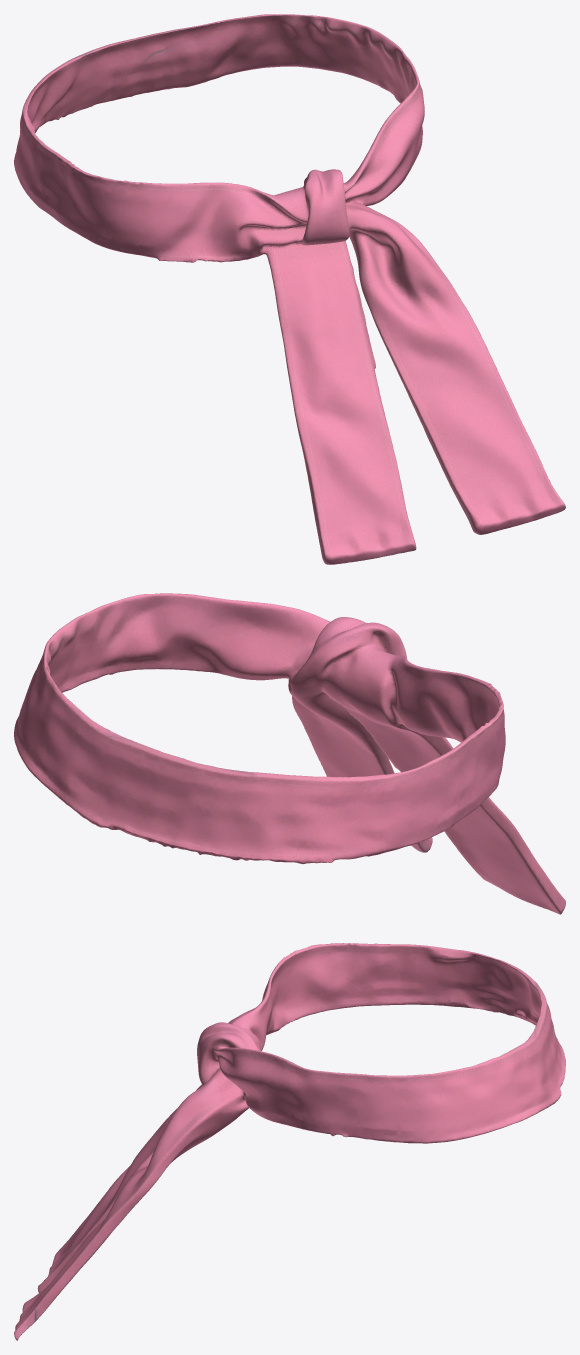
File: sabuk.glb
3 views of the same model, one above another, from view 1: azimuth 30°, elevation 25°; view 2: azimuth 150°, elevation 25°; view 3: azimuth 270°, elevation 25° (orthographic). The views are drawn at different scales.
Parts seen in each view (by area): view 1: mesh_node; view 2: mesh_node; view 3: mesh_node.
Boxes of the visible parts, x1=… form: mesh_node: x1=14, y1=14, x2=565, y2=564; mesh_node: x1=14, y1=593, x2=565, y2=914; mesh_node: x1=14, y1=943, x2=565, y2=1340.
Bounding box in the file's own units: 1.31 × 1.14 × 1.9.
Materials: 1 (1 with a texture image).
